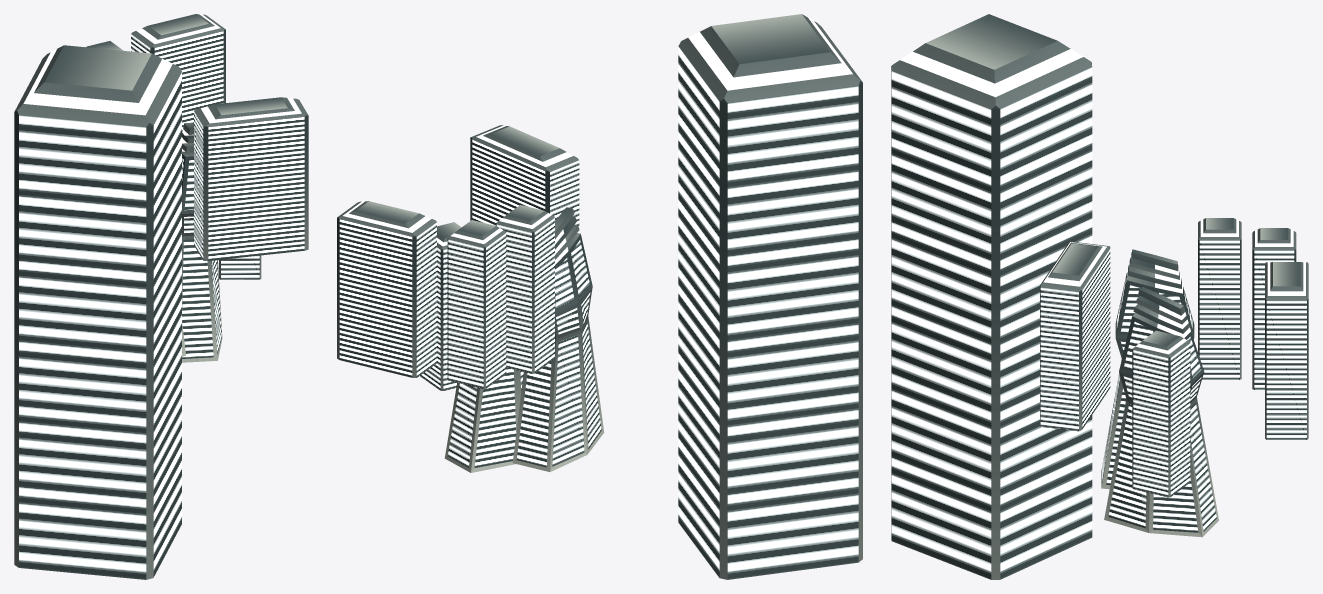
Rendered from Cyberpunk_Scene.glb.
3 views of the same model, side by side, from view 1: azimuth 30°, elevation 25°; view 2: azimuth 150°, elevation 25°; view 3: azimuth 270°, elevation 25° (orthographic). The views are drawn at different scales.
Visible parts, largest first — view 1: Square building.004, Square building.001, Square building.002, Triangle Building.001, Square building.003; view 2: Square building.004, Square building.002, Triangle Building, Square building.005, Square building.001, Square building, Triangle Building.001, Square building.003; view 3: Square building.004, Square building.001, Triangle Building.001, Square building.003, Square building.002, Square building, Triangle Building, Square building.005.
Boxes of the visible parts, x1=… form: Square building.004: x1=14, y1=45, x2=181, y2=579; Square building.001: x1=194, y1=97, x2=308, y2=260; Square building.002: x1=131, y1=14, x2=225, y2=131; Triangle Building.001: x1=182, y1=122, x2=222, y2=362; Square building.003: x1=218, y1=255, x2=261, y2=279; Square building.004: x1=678, y1=14, x2=862, y2=579; Square building.002: x1=337, y1=201, x2=436, y2=377; Triangle Building: x1=512, y1=207, x2=604, y2=471; Square building.005: x1=447, y1=220, x2=506, y2=388; Square building.001: x1=470, y1=125, x2=579, y2=233; Square building: x1=496, y1=205, x2=554, y2=373; Triangle Building.001: x1=444, y1=368, x2=523, y2=472; Square building.003: x1=420, y1=222, x2=461, y2=390; Square building.004: x1=891, y1=14, x2=1092, y2=579; Square building.001: x1=1040, y1=241, x2=1110, y2=431; Triangle Building.001: x1=1104, y1=286, x2=1218, y2=537; Square building.003: x1=1132, y1=330, x2=1190, y2=497; Square building.002: x1=1265, y1=262, x2=1308, y2=439; Square building: x1=1198, y1=218, x2=1241, y2=379; Triangle Building: x1=1101, y1=249, x2=1194, y2=489; Square building.005: x1=1252, y1=228, x2=1296, y2=389.
Bounding box in the file's own units: 2010 × 2662 × 2033.
1 material, 1 textured.
